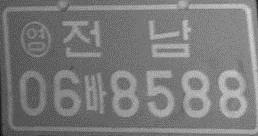0: (17, 69, 47, 117)
5: (144, 69, 175, 118)
6: (51, 69, 81, 118)
8: (216, 68, 247, 119), (179, 69, 211, 118), (109, 69, 139, 118)
바: (83, 72, 107, 115)
영: (18, 21, 52, 59)
전남_D: (59, 19, 192, 58)
